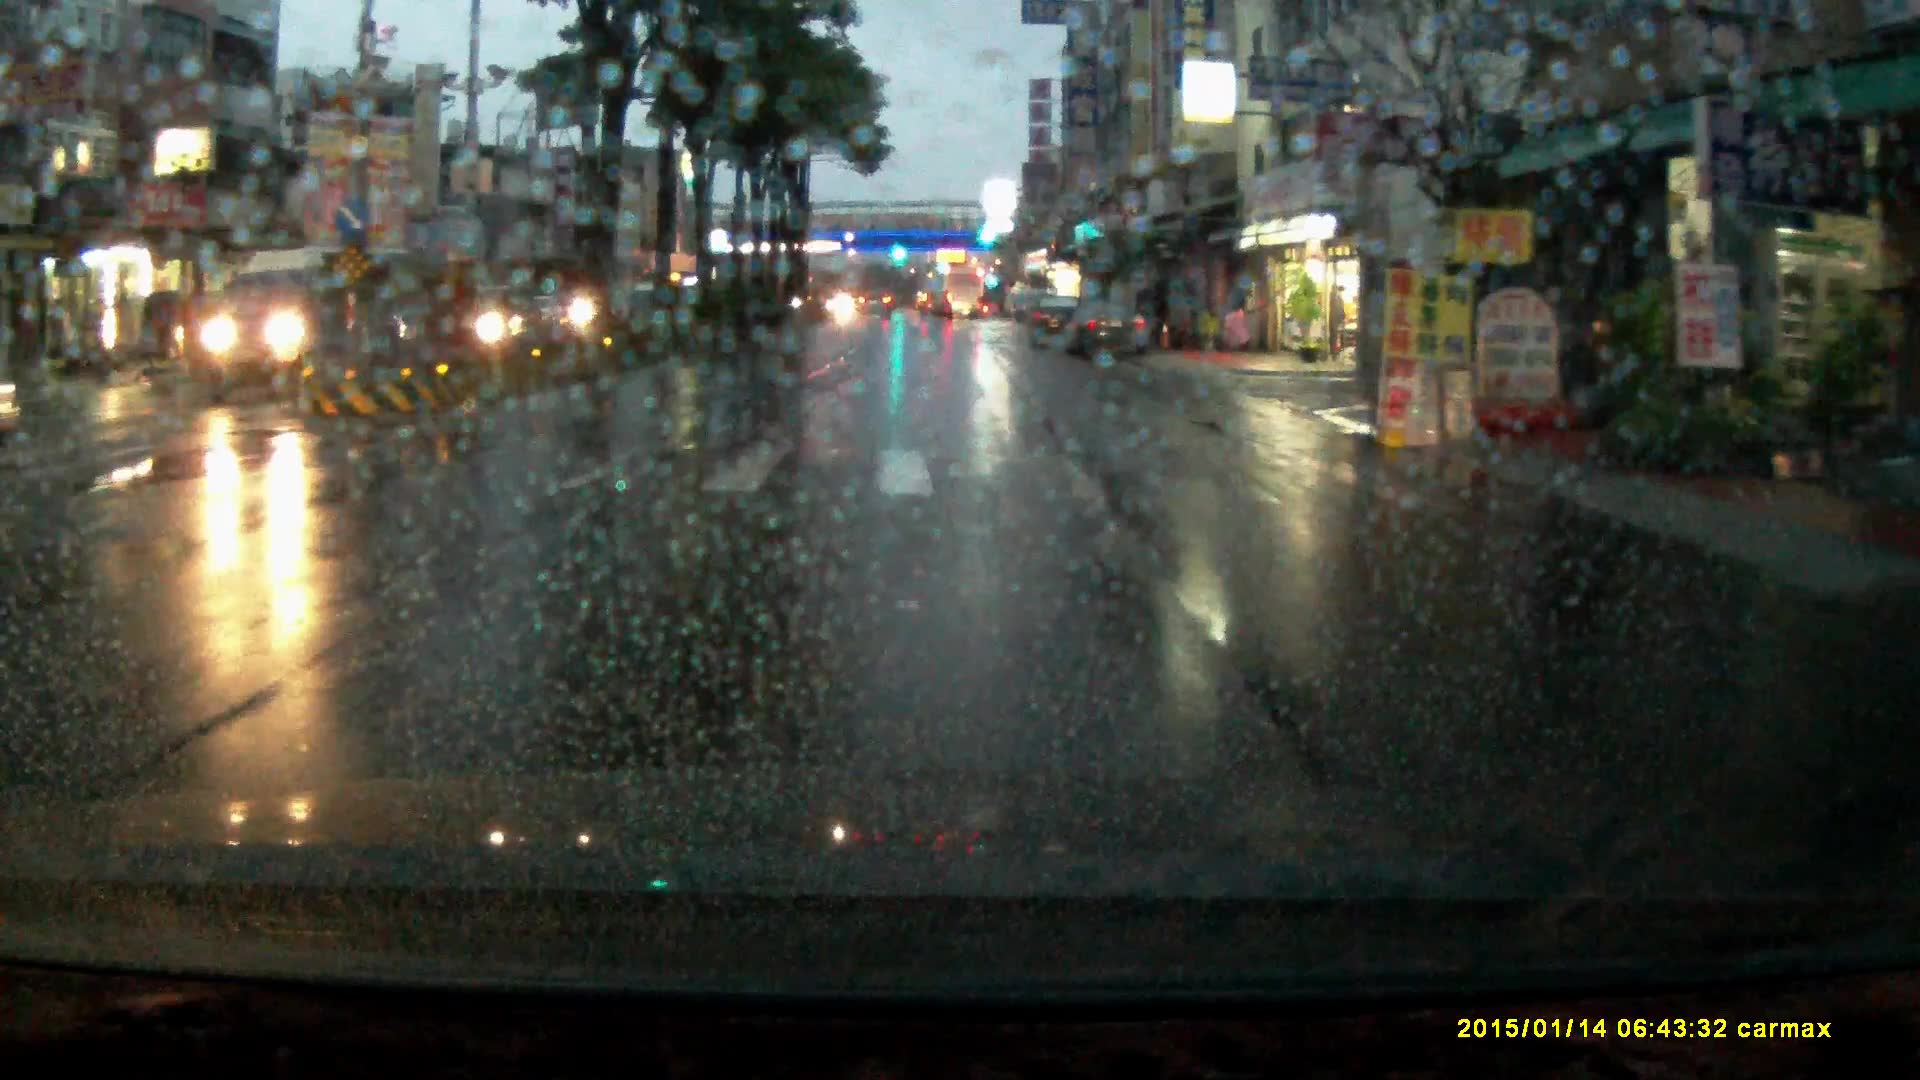vehicle: (194, 247, 419, 402), (415, 286, 545, 356), (1062, 295, 1151, 363), (1025, 293, 1083, 345), (942, 270, 985, 324), (920, 285, 955, 323), (856, 289, 893, 320)
